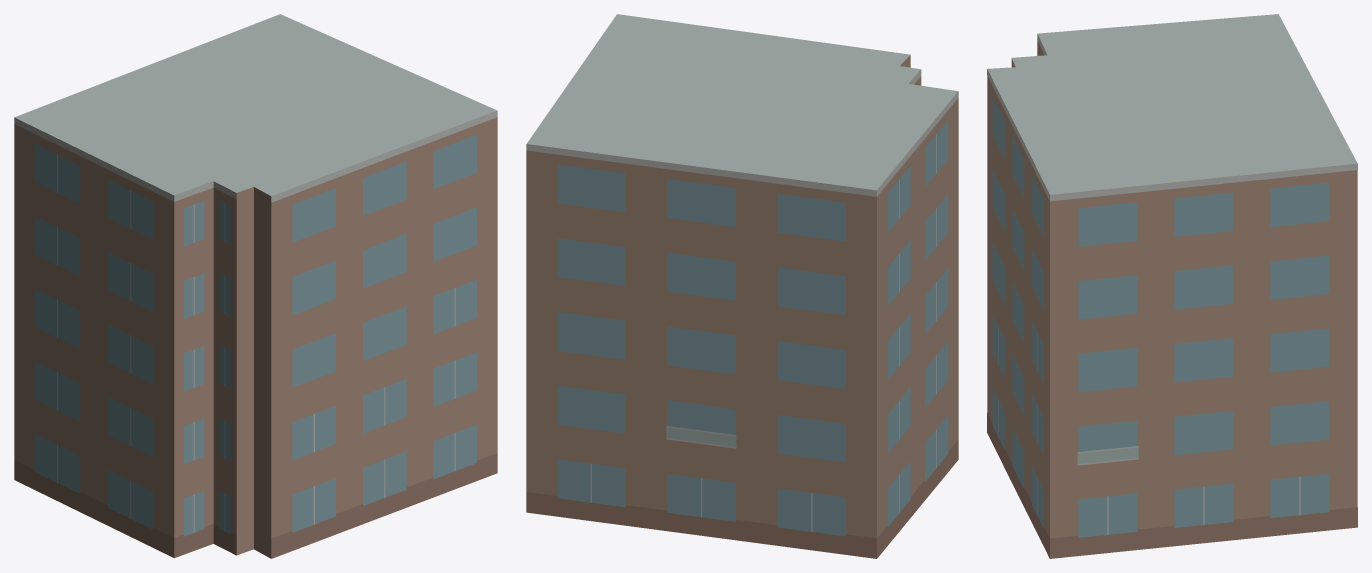
File: survey-upis-32493037.glb
The picture shows the model from 3 angles, left to right: view 1: azimuth 30°, elevation 25°; view 2: azimuth 150°, elevation 25°; view 3: azimuth 270°, elevation 25°; orthographic projection.
Visible parts, largest first — view 1: survey-upis-32493037.tmp; view 2: survey-upis-32493037.tmp; view 3: survey-upis-32493037.tmp.
Boxes of the visible parts, bbox=[...] form: survey-upis-32493037.tmp: bbox=[14, 14, 497, 558]; survey-upis-32493037.tmp: bbox=[526, 14, 958, 558]; survey-upis-32493037.tmp: bbox=[987, 14, 1357, 558].
Size of the model in its own units: 14.77 by 13.84 by 12.79.
